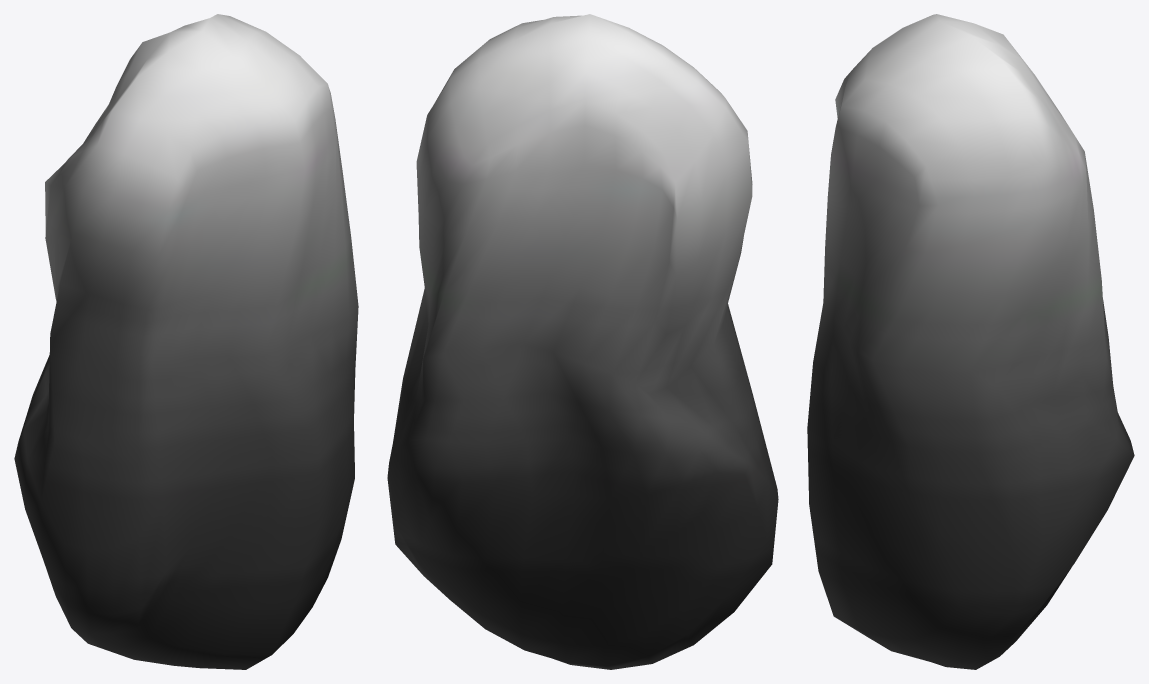
Rendered from M_Rock_Long_02.fbx.
3 views of the same model, side by side, from view 1: azimuth 30°, elevation 25°; view 2: azimuth 150°, elevation 25°; view 3: azimuth 270°, elevation 25° (orthographic).
Visible parts, largest first — view 1: M_Rock_Long_02; view 2: M_Rock_Long_02; view 3: M_Rock_Long_02.
Boxes of the visible parts, x1,y1,x2,y2 form: M_Rock_Long_02: (14,14,358,669); M_Rock_Long_02: (387,14,778,669); M_Rock_Long_02: (807,14,1134,669).
Size of the model in its own units: 2279 by 4232 by 1996.
1 material, 1 textured.
